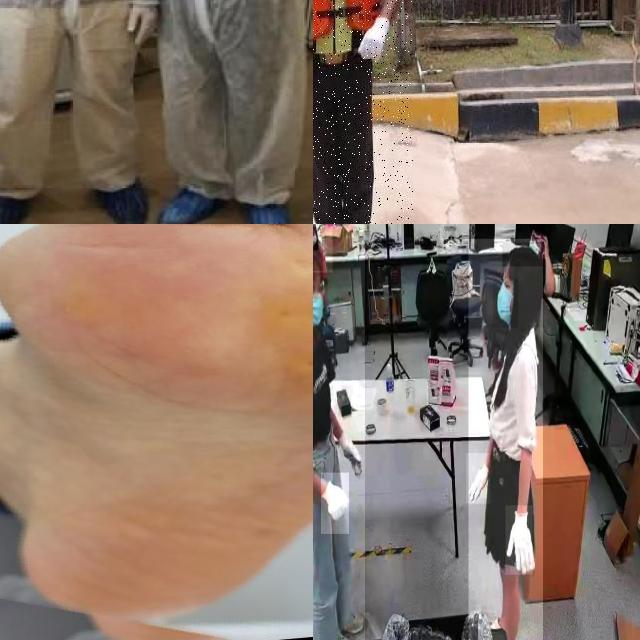Barefoots: (0, 224, 313, 637)
face_mask: (493, 278, 518, 328), (313, 292, 330, 333), (313, 227, 318, 250)
hand_glove: (120, 0, 160, 53), (505, 506, 533, 576), (321, 472, 349, 534), (333, 431, 365, 481), (466, 453, 491, 505)
hand_noglove: (541, 232, 551, 258)
head_nohelmet: (503, 242, 543, 268), (313, 240, 323, 271), (530, 224, 546, 232)
person: (0, 0, 176, 224), (150, 0, 313, 224), (468, 238, 543, 640), (313, 0, 413, 224), (313, 224, 365, 640), (313, 224, 332, 272)
shoes: (86, 173, 154, 224), (156, 180, 229, 224), (238, 191, 298, 224), (0, 179, 42, 224), (333, 606, 365, 635), (318, 627, 361, 640)
vest: (313, 0, 380, 66)
